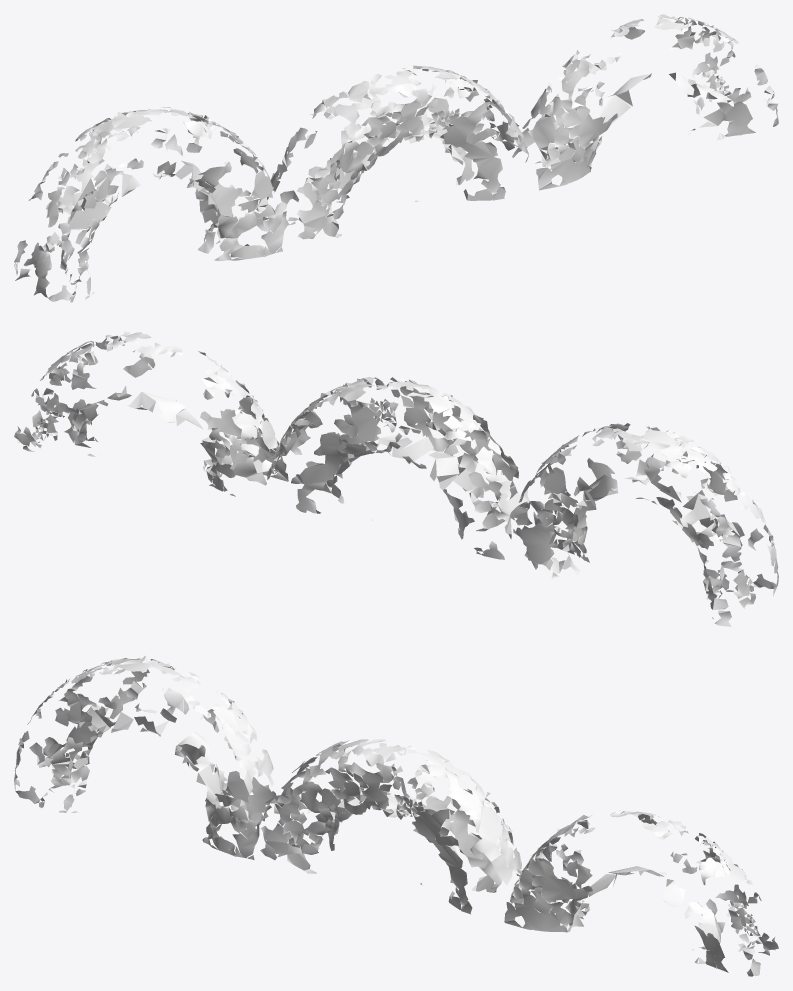
3 views of the same model, one above another, from view 1: azimuth 30°, elevation 25°; view 2: azimuth 150°, elevation 25°; view 3: azimuth 330°, elevation 25° (orthographic).
Size of the model in its own units: 1.94 by 0.38 by 0.1988.
Materials: 1 (1 with a texture image).
